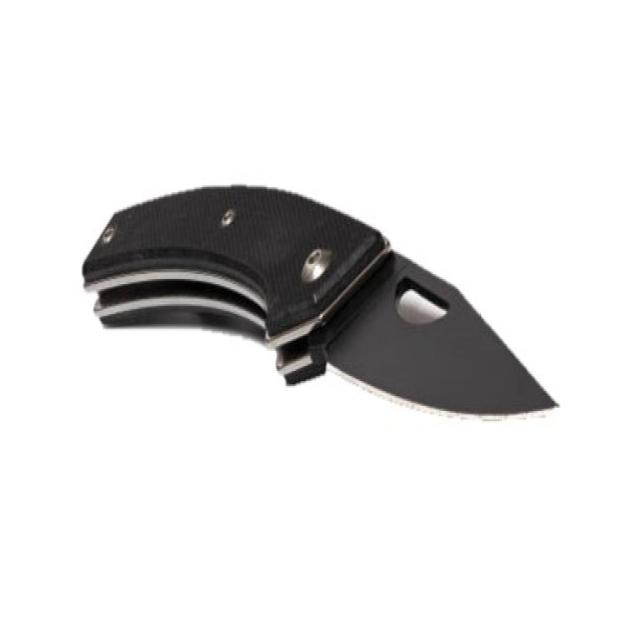knife: (72, 165, 573, 456)
